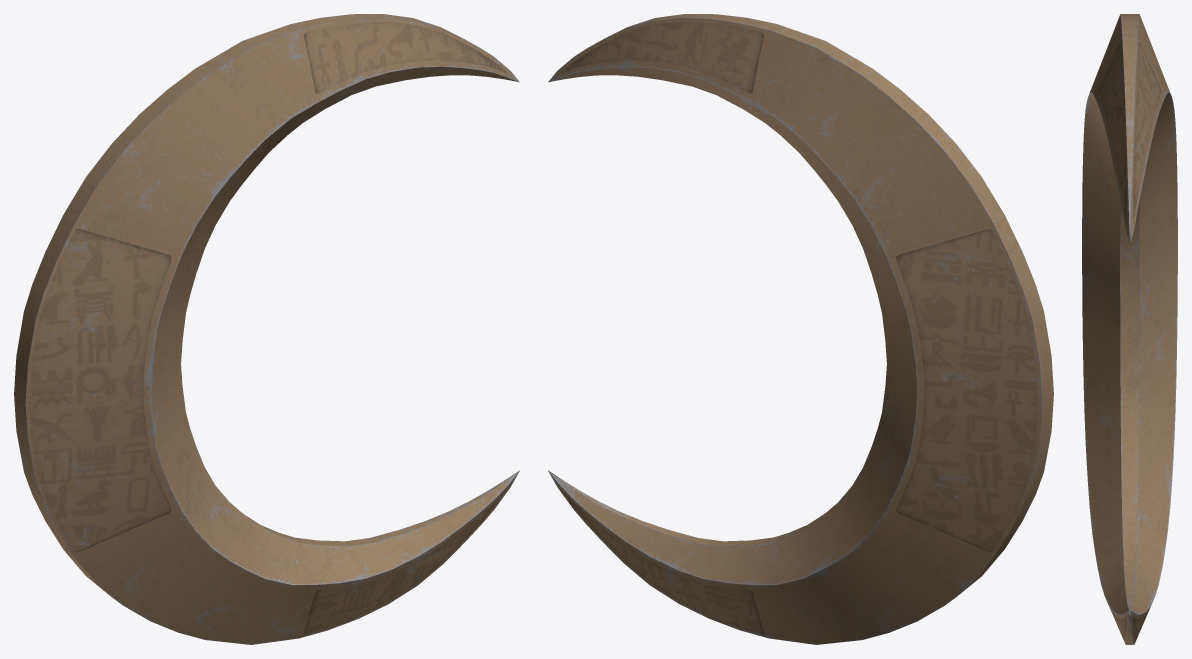
File: moon_knights_boomerang_low_poly.glb
The picture shows the model from 3 angles, left to right: view 1: azimuth 30°, elevation 25°; view 2: azimuth 150°, elevation 25°; view 3: azimuth 270°, elevation 25°; orthographic projection. The views are drawn at different scales.
Parts seen in each view (by area): view 1: Line002__0; view 2: Line002__0; view 3: Line002__0.
Part boxes in pixels (box(x1,y1,x2,y2)): Line002__0: box(14, 14, 519, 644); Line002__0: box(548, 14, 1053, 644); Line002__0: box(1082, 14, 1177, 644).
Size of the model in its own units: 0.8671 by 1.01 by 0.1527.
1 material, 1 textured.
